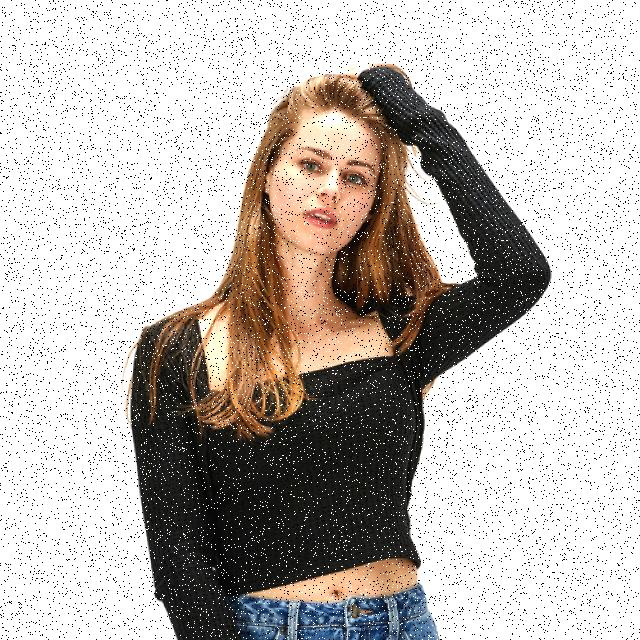Blouse_deep: (128, 68, 547, 640)
